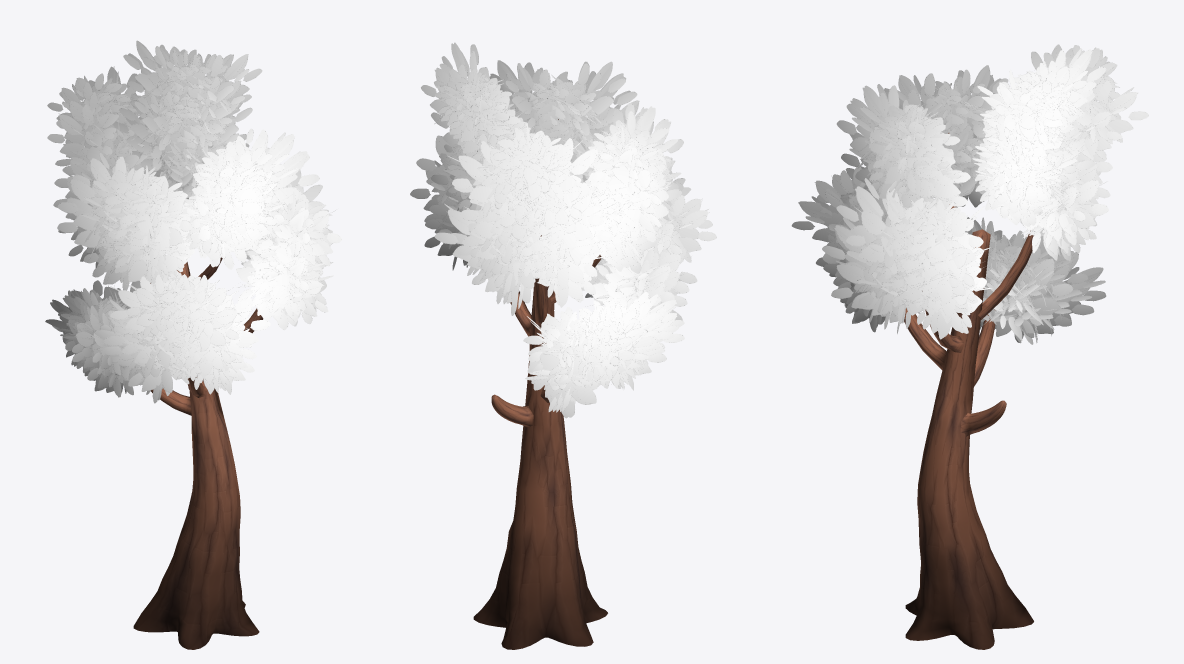
The model's file is CommonTree_5.gltf.
3 renders of one model, left to right at view 1: azimuth 30°, elevation 25°; view 2: azimuth 150°, elevation 25°; view 3: azimuth 270°, elevation 25°, orthographic. The views are drawn at different scales.
Visible parts, largest first — view 1: CommonTree_5; view 2: CommonTree_5; view 3: CommonTree_5.
Boxes of the visible parts, x1,y1,x2,y2 form: CommonTree_5: (45, 40, 341, 649); CommonTree_5: (410, 42, 716, 649); CommonTree_5: (791, 44, 1148, 649).
Size of the model in its own units: 3.67 by 7.01 by 4.22.
2 materials, 2 textured.
